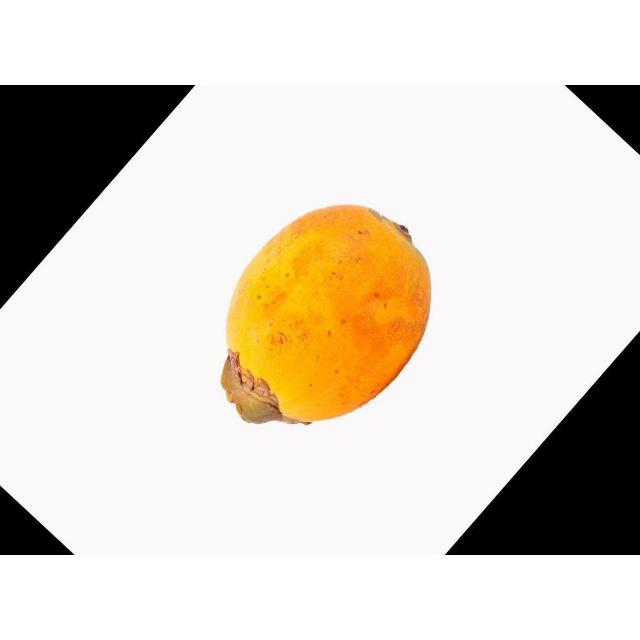good: (219, 204, 433, 427)
